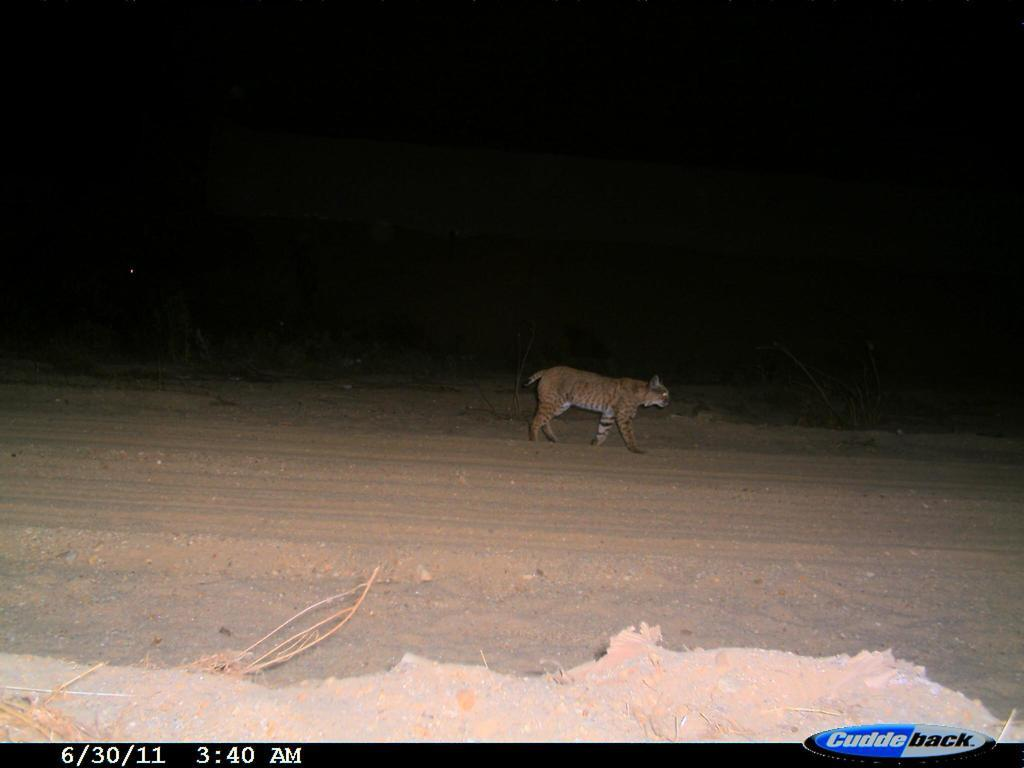bobcat: (513, 356, 678, 461)
